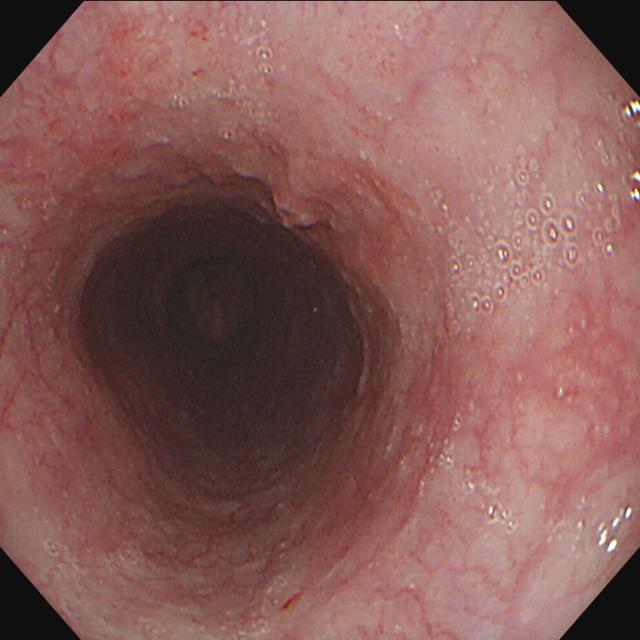A: (46, 28, 177, 212), (193, 134, 400, 233)
E: (145, 239, 294, 406)
T: (439, 151, 625, 316), (437, 411, 465, 472), (485, 499, 521, 535), (256, 41, 277, 84)
U: (595, 506, 636, 555), (622, 96, 640, 129)
